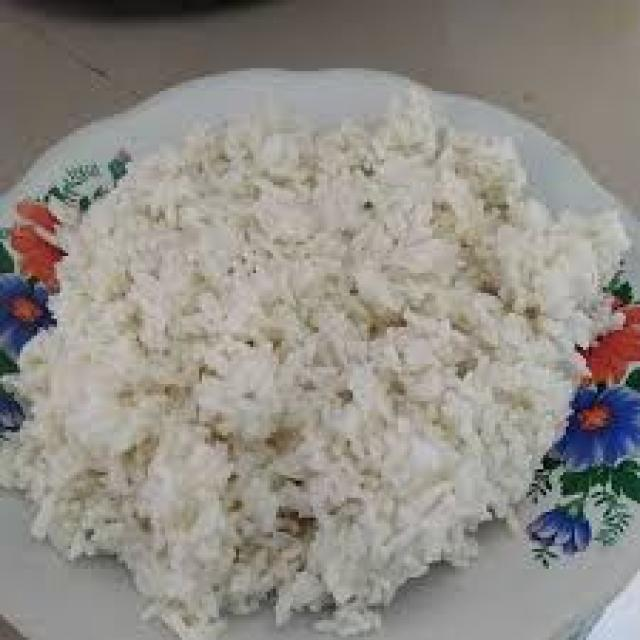nasi: (21, 118, 598, 606)
